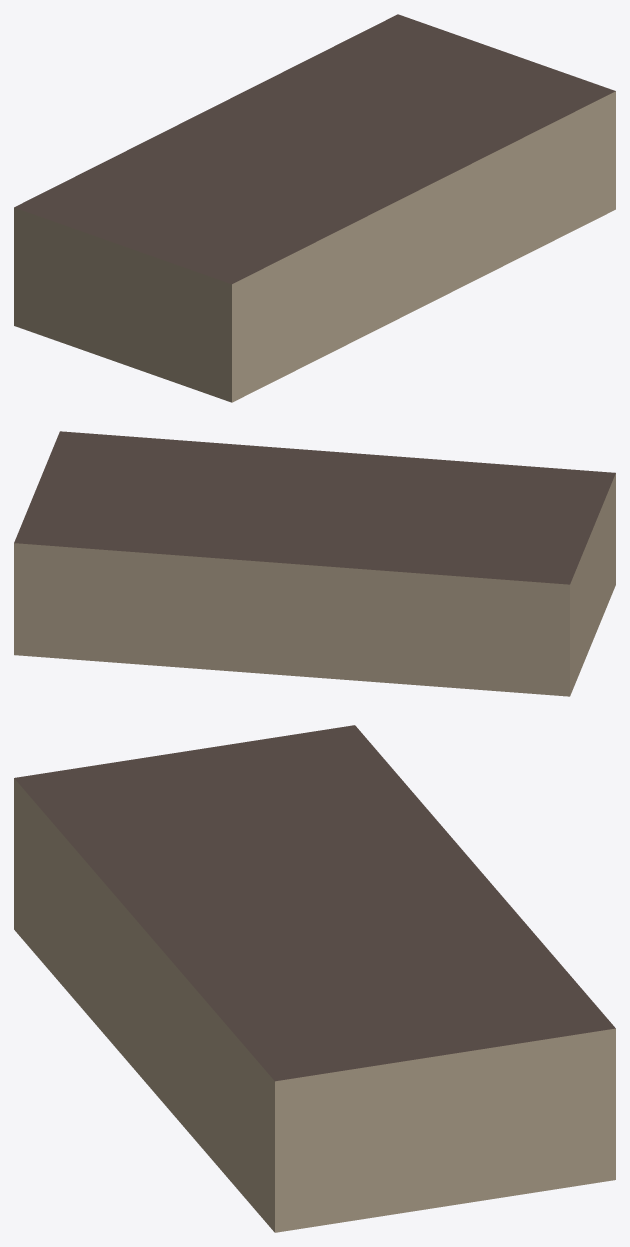
3 views of the same model, one above another, from view 1: azimuth 30°, elevation 25°; view 2: azimuth 150°, elevation 25°; view 3: azimuth 270°, elevation 25° (orthographic). The views are drawn at different scales.
Visible parts, largest first — view 1: HP-w447024807; view 2: HP-w447024807; view 3: HP-w447024807.
Part boxes in pixels (<box>): HP-w447024807: <box>14,14,615,402</box>; HP-w447024807: <box>14,431,615,696</box>; HP-w447024807: <box>14,725,615,1232</box>.
Bounding box in the file's own units: 45.38 × 9 × 32.41.
